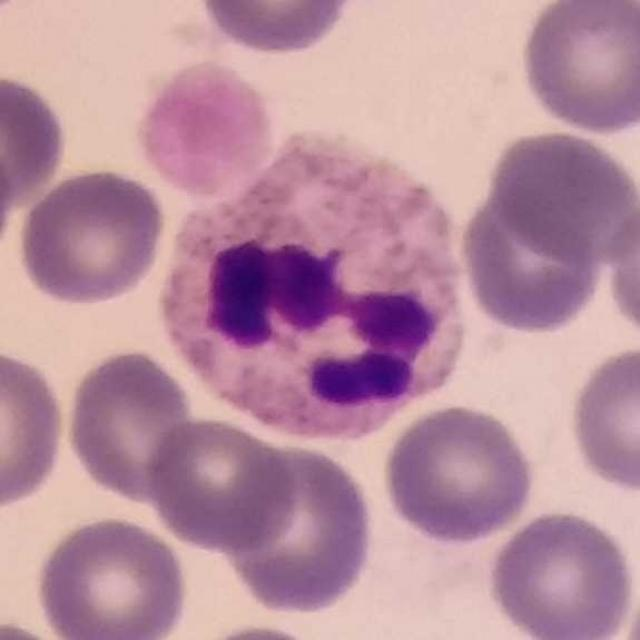Neutrophil: (148, 128, 480, 454)
RBC: (220, 438, 378, 616), (454, 179, 610, 336), (378, 401, 540, 546), (15, 164, 170, 308), (61, 345, 199, 506), (142, 413, 300, 553), (128, 56, 278, 198), (485, 126, 640, 262), (479, 505, 633, 640), (32, 512, 192, 640), (515, 0, 640, 137), (0, 343, 70, 514), (564, 342, 640, 495), (0, 69, 71, 214), (194, 0, 358, 57), (601, 193, 640, 346), (182, 620, 338, 640), (0, 615, 82, 640)
